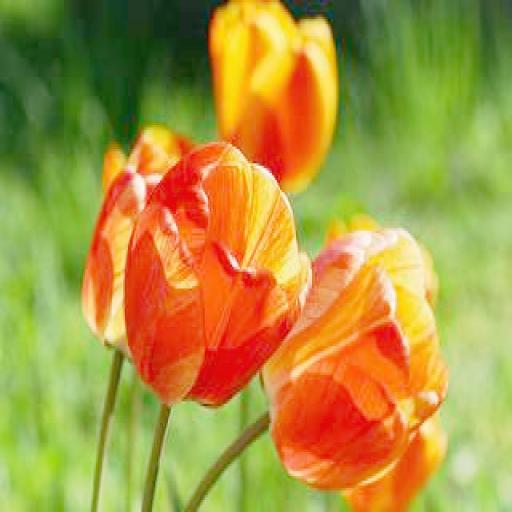tulip: (123, 139, 312, 411)
